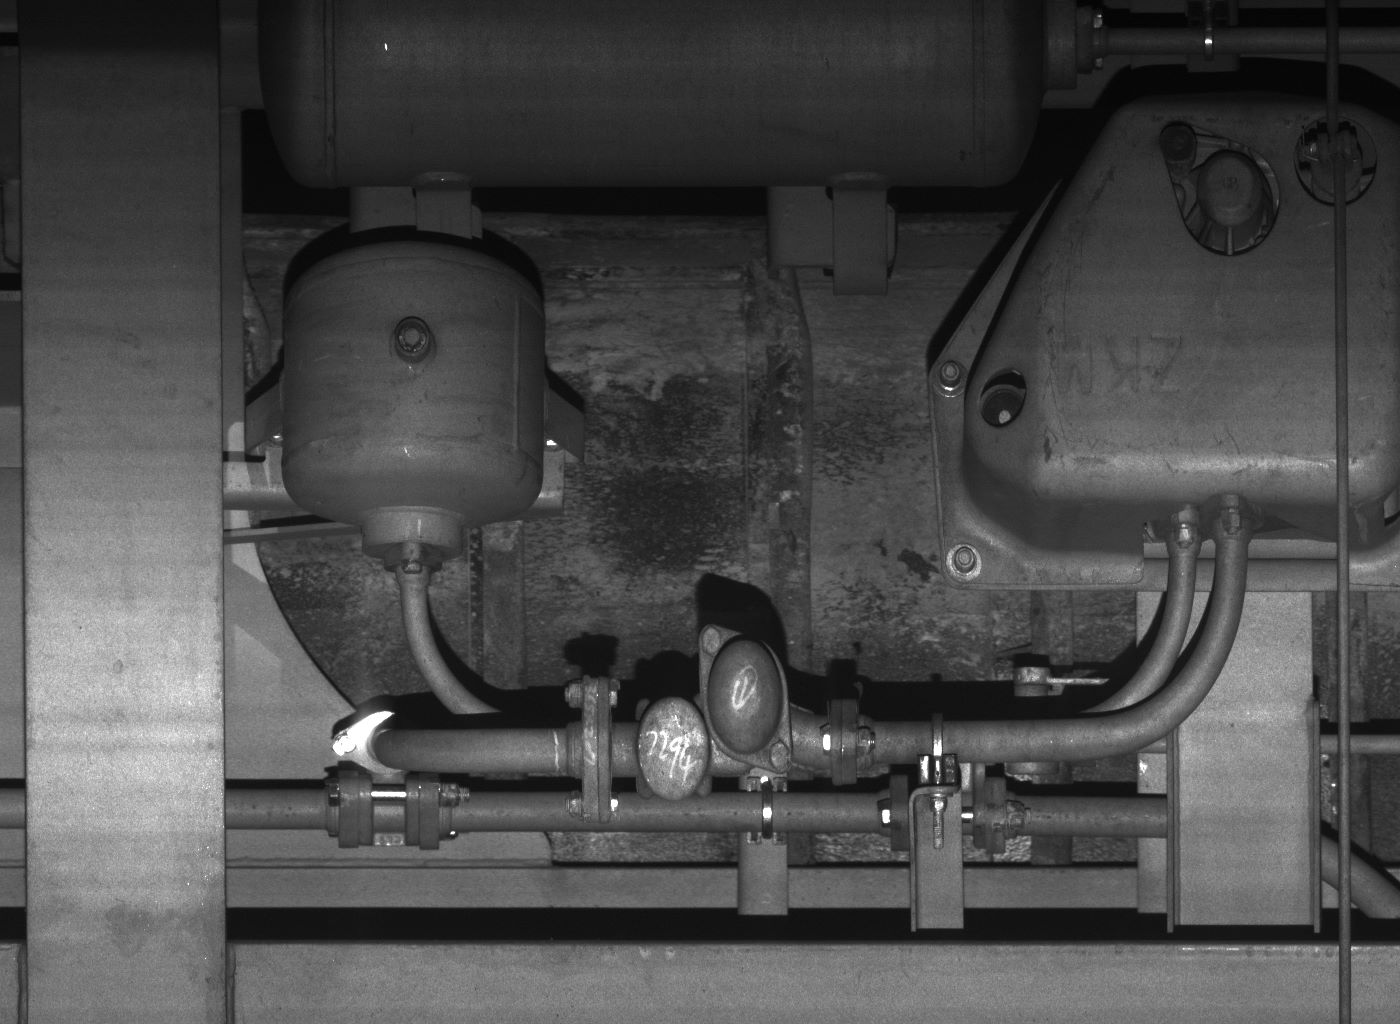normal: (634, 690, 713, 799)
